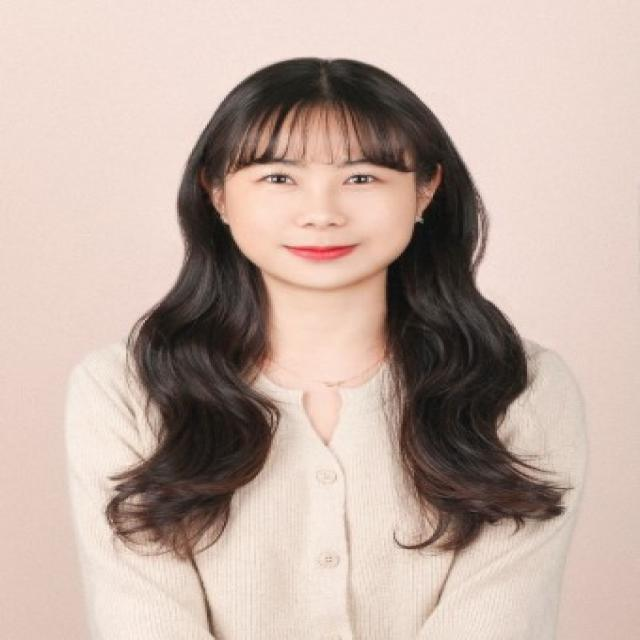Nonhelmet: (186, 49, 467, 300)
